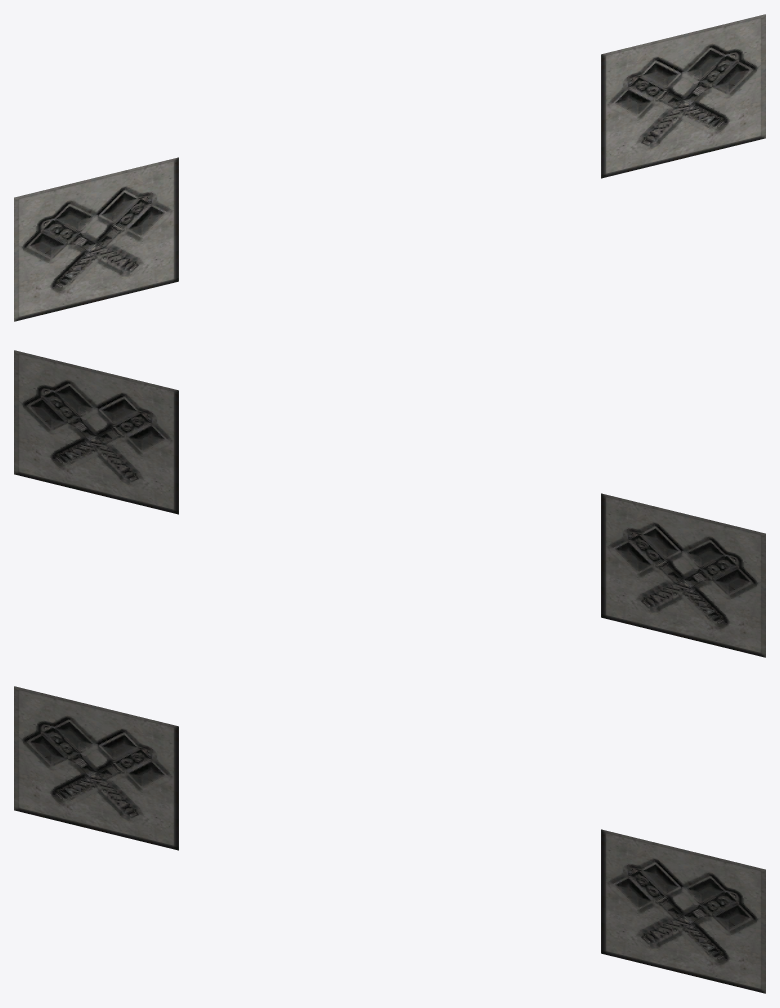
File: DWARF_PALACE_MAINHALL_ICON04.fbx
The picture shows the model from 3 angles, top to bottom: view 1: azimuth 30°, elevation 25°; view 2: azimuth 150°, elevation 25°; view 3: azimuth 330°, elevation 25°; orthographic projection.
Parts seen in each view (by area): view 1: DWARF_PALACE_MAINHALL_ICON04; view 2: DWARF_PALACE_MAINHALL_ICON04; view 3: DWARF_PALACE_MAINHALL_ICON04.
Part boxes in pixels (x1,y1,x2,y2): DWARF_PALACE_MAINHALL_ICON04: (14,14,765,321); DWARF_PALACE_MAINHALL_ICON04: (14,350,765,657); DWARF_PALACE_MAINHALL_ICON04: (14,686,765,993).
Size of the model in its own units: 114000 by 18000 by 0.293.
Materials: 1 (1 with a texture image).
